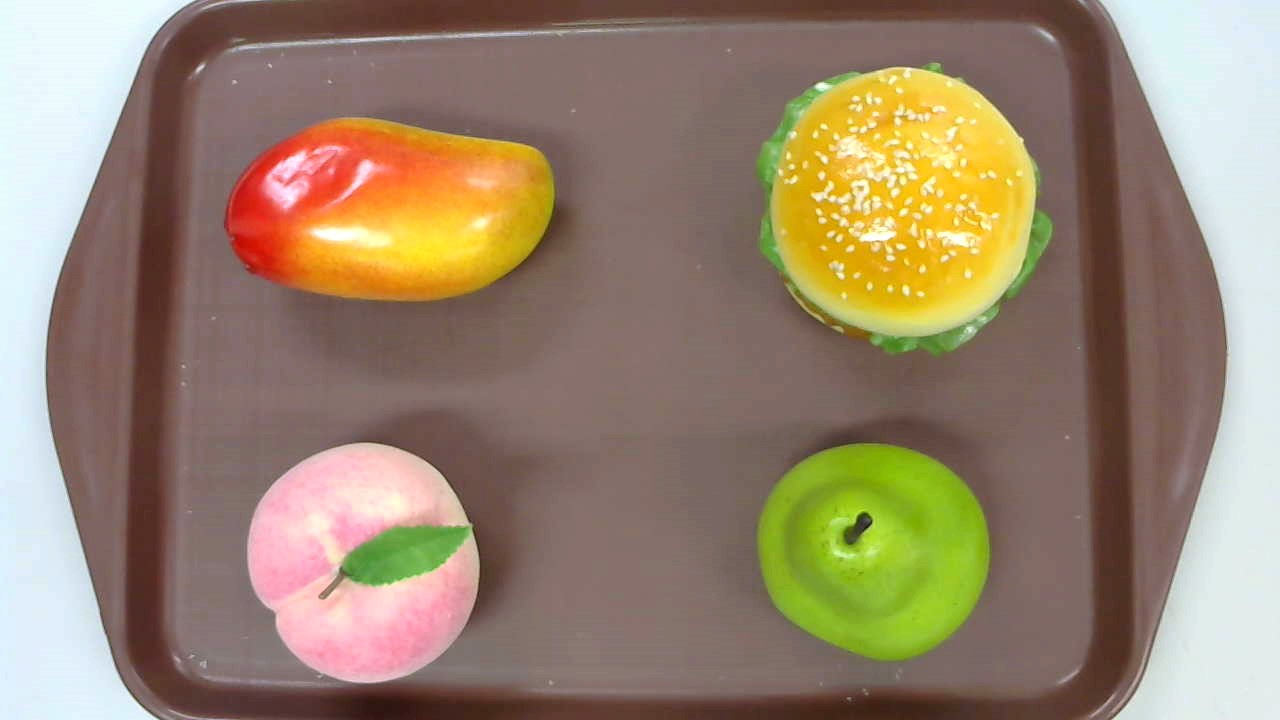green pear: (756, 441, 990, 659)
hamburger: (755, 59, 1053, 358)
peaches: (248, 442, 479, 678)
red mango: (223, 115, 554, 304)
